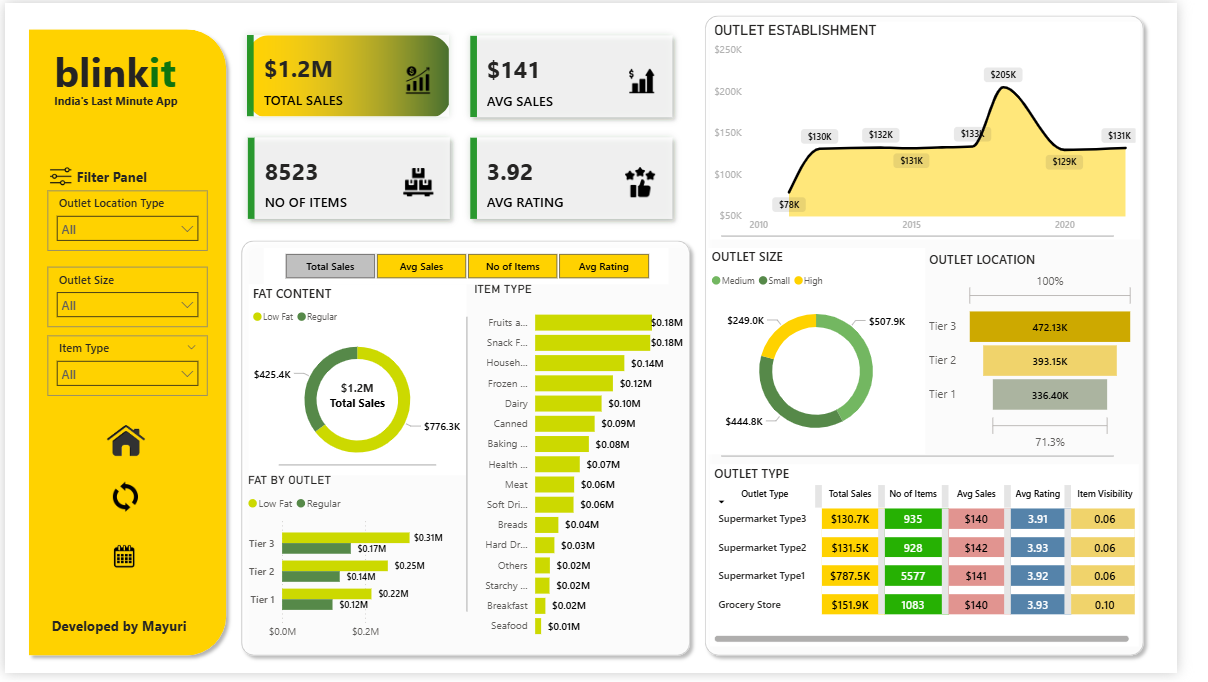

Layout of this report page (visuals, bound fields, positions):
{"tool":"powerbi","page":{"name":"Page 1","canvas":[1400,800],"ordinal":0},"visuals":[{"type":"shape","box":[19.4,22.4,253.7,765.7],"z":0},{"type":"textbox","box":[53.7,43.3,191,92.5],"z":1000},{"type":"textbox","box":[53.7,103,176.1,32.8],"z":2000},{"type":"cardVisual","fields":{"Data":["BlinkIT Grocery Data.Total Sales","BlinkIT Grocery Data.Avg Sales","BlinkIT Grocery Data.No of Items","BlinkIT Grocery Data.Avg of Rating"]},"box":[273.1,22.4,541.8,252.2],"z":3000},{"type":"shape","box":[273.1,274.6,553.7,513.4],"z":4000},{"type":"donutChart","title":" FAT CONTENT","fields":{"Y":["BlinkIT Grocery Data.Total Sales"],"Category":["BlinkIT Grocery Data.Item Fat Content"]},"box":[291,335.8,259.7,228.4],"z":5000},{"type":"slicer","fields":{"Values":["Matric.Matric"]},"box":[309,292.5,483.6,43.3],"z":6000},{"type":"cardVisual","fields":{"Data":["BlinkIT Grocery Data.Total Sales"]},"box":[364.2,419.4,113.4,98.5],"z":6001},{"type":"clusteredBarChart","title":"FAT BY OUTLET","fields":{"Category":["BlinkIT Grocery Data.Outlet Location Type"],"Series":["BlinkIT Grocery Data.Item Fat Content"],"Y":["BlinkIT Grocery Data.Total Sales"]},"box":[285.1,561.2,259.7,207.5],"z":6002},{"type":"shape","box":[326.9,538.8,188.1,25.4],"z":6003},{"type":"shape","box":[529.9,374.6,43.3,352.2],"z":6004},{"type":"clusteredBarChart","title":" ITEM TYPE","fields":{"Category":["BlinkIT Grocery Data.Item Type"],"Y":["BlinkIT Grocery Data.Total Sales"]},"box":[555.2,332.8,259.7,435.8],"z":6005},{"type":"shape","box":[826.9,6,541.8,782.1],"z":6006},{"type":"lineChart","title":"OUTLET ESTABLISHMENT","fields":{"Category":["BlinkIT Grocery Data.Outlet Establishment Year"],"Y":["BlinkIT Grocery Data.Total Sales"]},"box":[841.8,22.4,513.4,259.7],"z":6007},{"type":"donutChart","title":"OUTLET SIZE","fields":{"Y":["BlinkIT Grocery Data.Total Sales"],"Category":["BlinkIT Grocery Data.Outlet Size"]},"box":[838.8,292.5,259.7,246.3],"z":6008},{"type":"funnel","title":"OUTLET LOCATION","fields":{"Y":["Sum(BlinkIT Grocery Data.Sales)"],"Category":["BlinkIT Grocery Data.Outlet Location Type"]},"box":[1098.5,295.5,255.2,243.3],"z":6009},{"type":"shape","box":[855.2,531.3,468.7,19.4],"z":6010},{"type":"pivotTable","title":"OUTLET TYPE","fields":{"Values":["BlinkIT Grocery Data.Total Sales","BlinkIT Grocery Data.No of Items","BlinkIT Grocery Data.Avg Sales","BlinkIT Grocery Data.Avg Rating","Avg(BlinkIT Grocery Data.Item Visibility)"],"Rows":["BlinkIT Grocery Data.Outlet Type"]},"box":[841.8,550.7,511.9,217.9],"z":6011},{"type":"shape","box":[855.2,268.7,468.7,19.4],"z":6012},{"type":"slicer","fields":{"Values":["BlinkIT Grocery Data.Outlet Location Type"]},"box":[50.7,223.9,191,71.6],"z":6013},{"type":"slicer","fields":{"Values":["BlinkIT Grocery Data.Outlet Size"]},"box":[50.7,314.9,191,71.6],"z":6014},{"type":"slicer","fields":{"Values":["BlinkIT Grocery Data.Item Type"]},"box":[50.7,397,191,71.6],"z":6015},{"type":"image","box":[109,550.7,70.1,77.6],"z":6017},{"type":"textbox","box":[80.6,191,129.9,32.8],"z":6018},{"type":"image","box":[114.9,476.1,59.7,88.1],"z":6019},{"type":"image","box":[43.3,182.1,46.3,49.3],"z":6020},{"type":"textbox","box":[50.7,726.9,191,35.8],"z":6021},{"type":"image","box":[122.4,625.4,40.3,70.1],"z":6022}]}

Visuals, with their boxes in screenshot pixels (x1, y1, x2, y2), scaled from the page's 1400x800 canvas onto the 1208x682 screenshot:
shape: 17,19,236,672
textbox: 46,37,211,116
textbox: 46,88,198,116
cardVisual - BlinkIT Grocery Data.Total Sales x BlinkIT Grocery Data.Avg Sales: 236,19,703,234
shape: 236,234,713,672
" FAT CONTENT" donutChart: 251,286,475,481
slicer - Matric.Matric: 267,249,684,286
cardVisual - BlinkIT Grocery Data.Total Sales: 314,358,412,442
"FAT BY OUTLET" clusteredBarChart: 246,478,470,655
shape: 282,459,444,481
shape: 457,319,495,620
" ITEM TYPE" clusteredBarChart: 479,284,703,655
shape: 713,5,1181,672
"OUTLET ESTABLISHMENT" lineChart: 726,19,1169,240
"OUTLET SIZE" donutChart: 724,249,948,459
"OUTLET LOCATION" funnel: 948,252,1168,459
shape: 738,453,1142,469
"OUTLET TYPE" pivotTable: 726,469,1168,655
shape: 738,229,1142,246
slicer - BlinkIT Grocery Data.Outlet Location Type: 44,191,209,252
slicer - BlinkIT Grocery Data.Outlet Size: 44,268,209,329
slicer - BlinkIT Grocery Data.Item Type: 44,338,209,399
image: 94,469,155,536
textbox: 70,163,182,191
image: 99,406,151,481
image: 37,155,77,197
textbox: 44,620,209,650
image: 106,533,140,593
